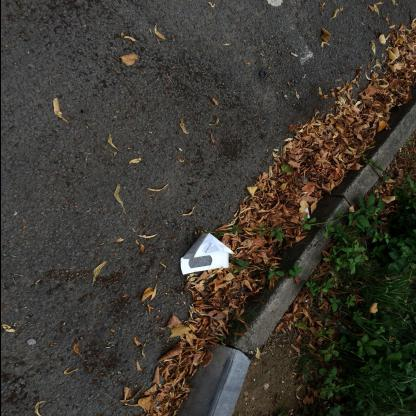karton: (179, 232, 235, 274)
